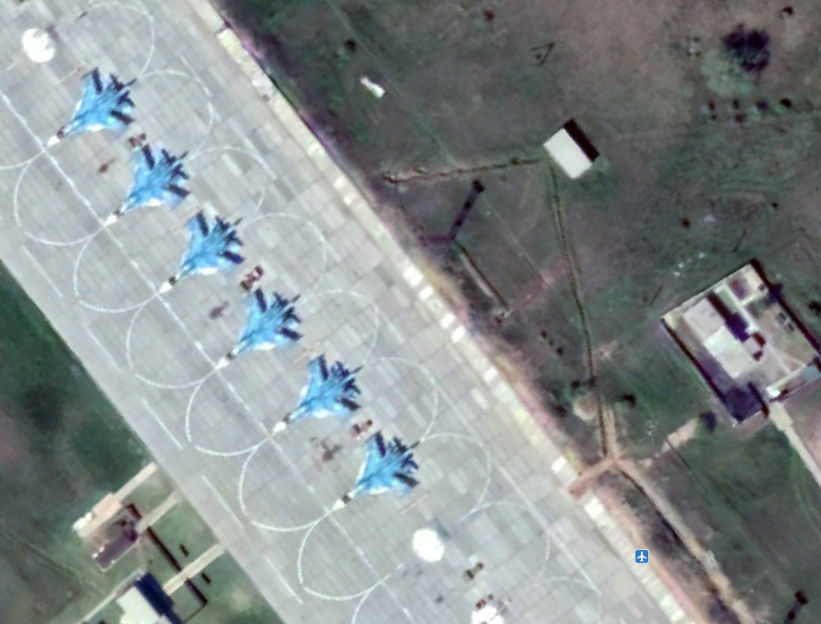A19: (38, 63, 143, 152), (93, 142, 198, 231), (149, 212, 254, 301), (205, 287, 310, 376), (260, 351, 365, 440), (325, 430, 430, 519)
